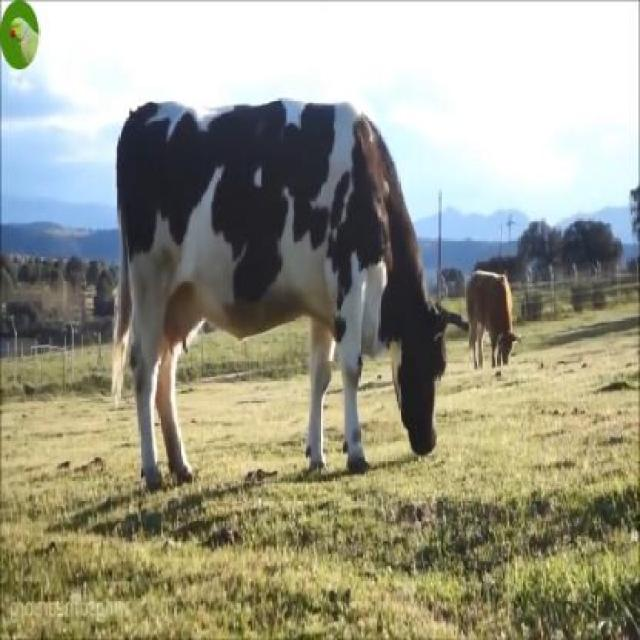Cow: (118, 102, 451, 460)
